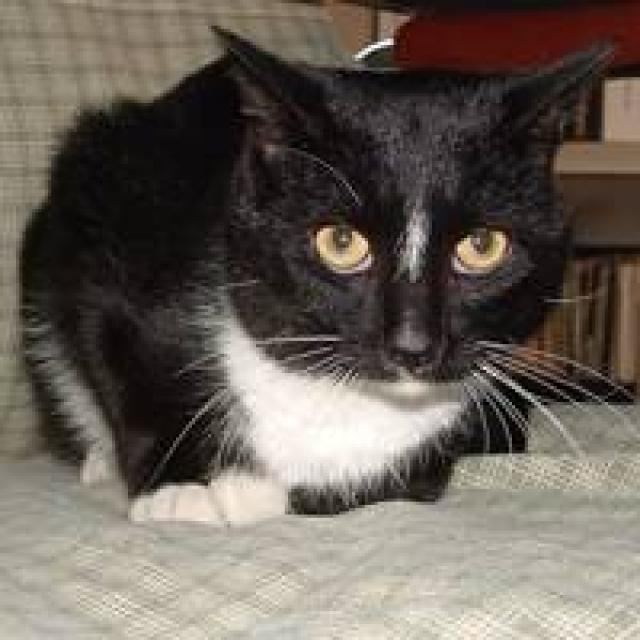cat: (13, 22, 637, 528)
